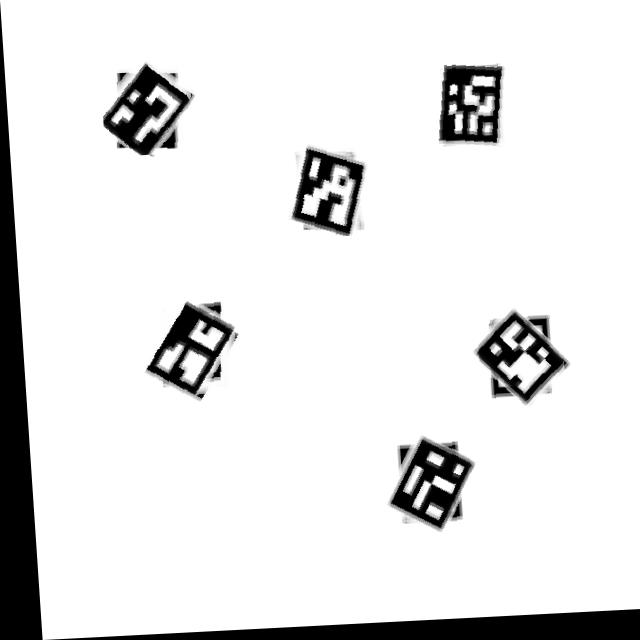aruco: (127, 296, 236, 403), (98, 56, 195, 158), (274, 141, 371, 242), (472, 312, 563, 415), (377, 439, 467, 540), (428, 66, 510, 156)
